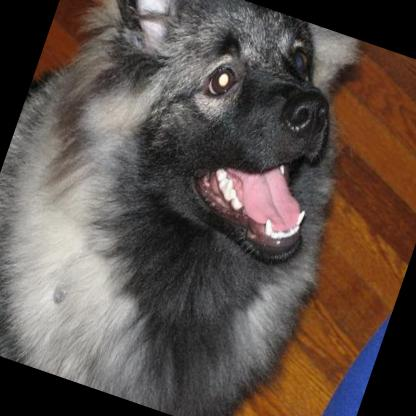keeshond: (0, 0, 391, 416)
